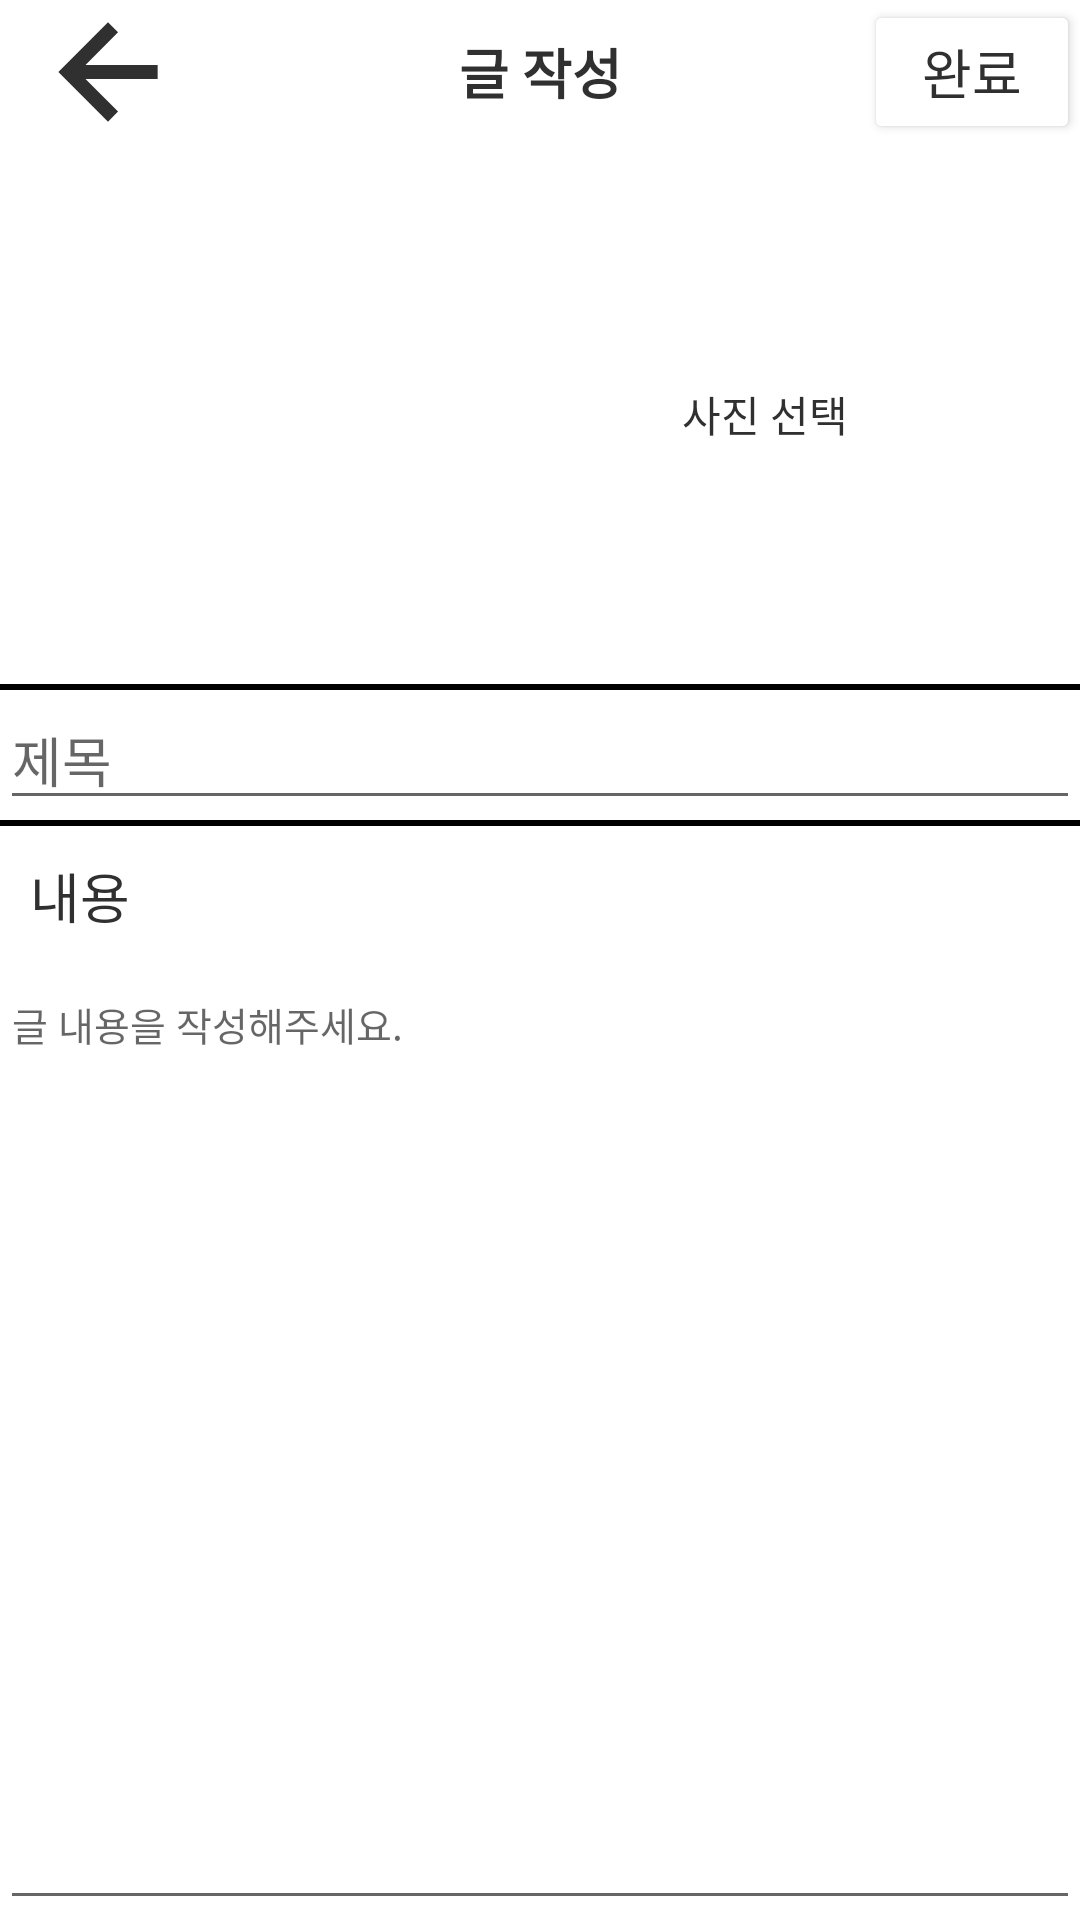

Icons on this 1080x1920 Android screen, each with the point to tap as [x,y]:
arrow back: [108,72]
